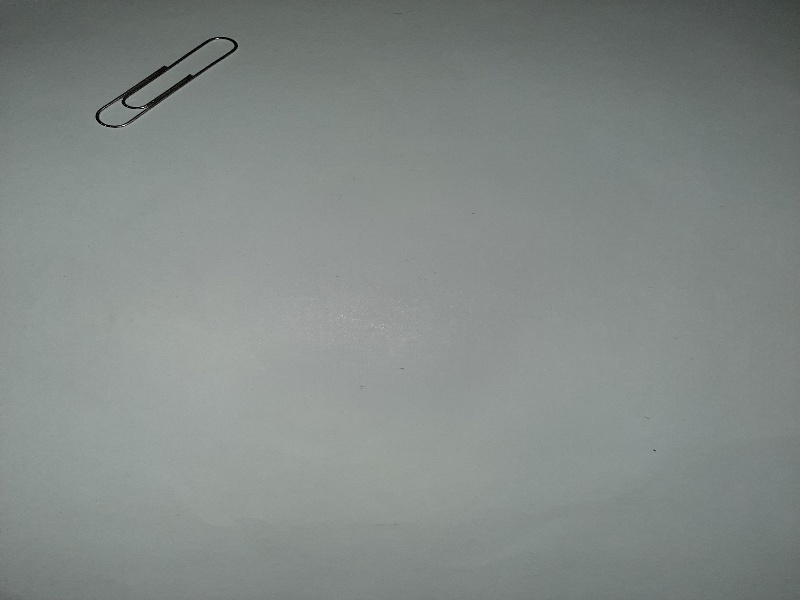Big Jumpclip: (87, 34, 242, 132)
